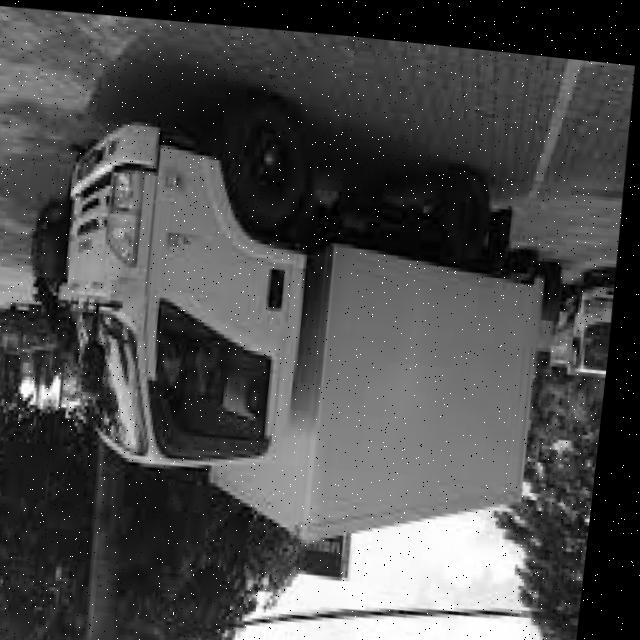truck: (14, 60, 367, 511), (550, 246, 624, 386)
